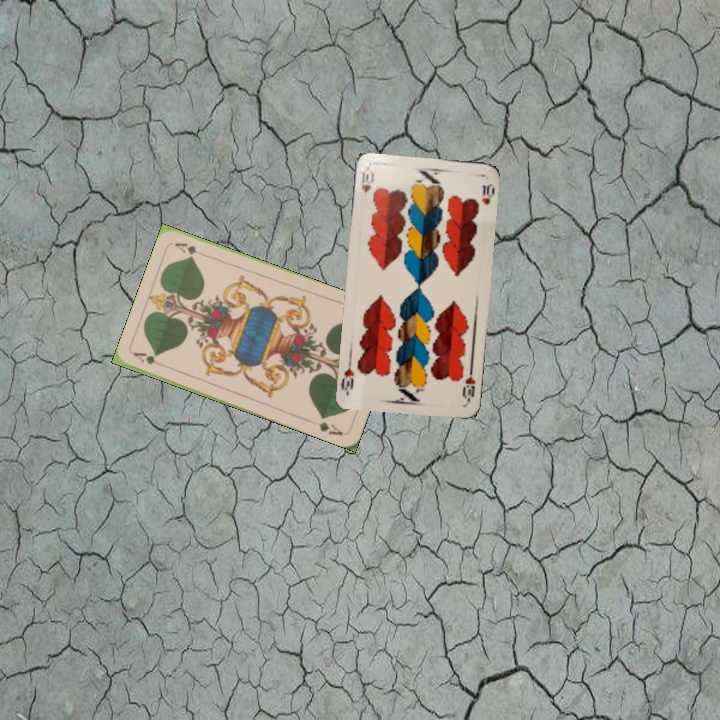GA: (130, 348, 168, 370)
H10: (459, 364, 478, 404), (357, 168, 376, 195)
